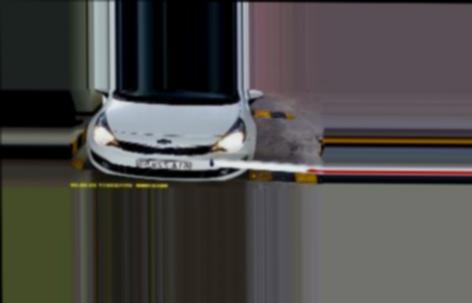License_Plate: (138, 159, 192, 172)
